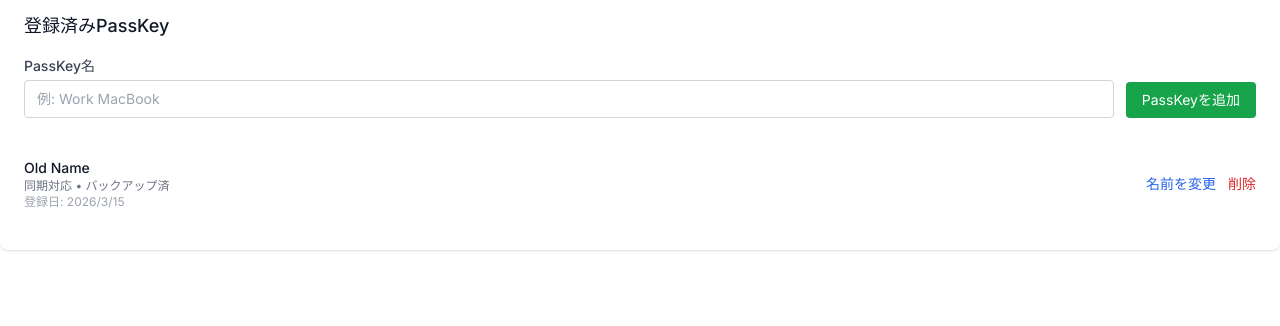
Test: PasskeySettings › shows a UI error when passkey rename fails
Click the button "名前を変更". click: click(1181, 184)
box: [1146, 174, 1216, 194]
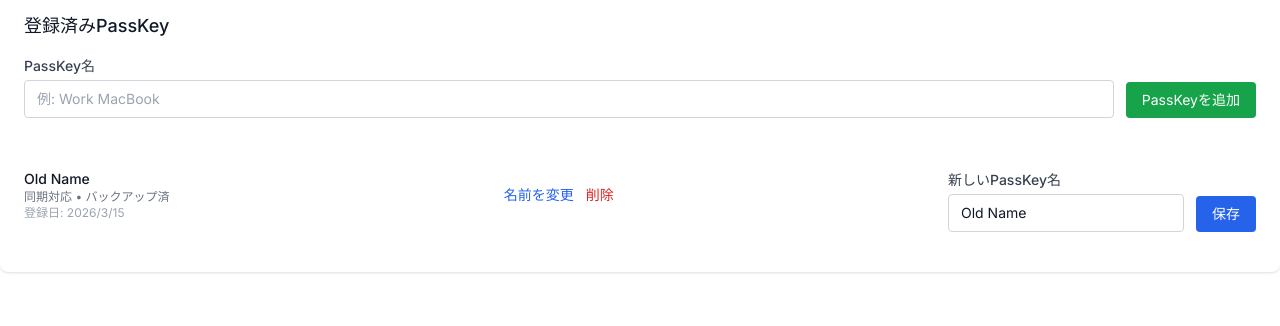
Replace the text in the field labelled "新しいPassKey名" with "New Name". click: (1066, 213)
box: [948, 194, 1184, 232]
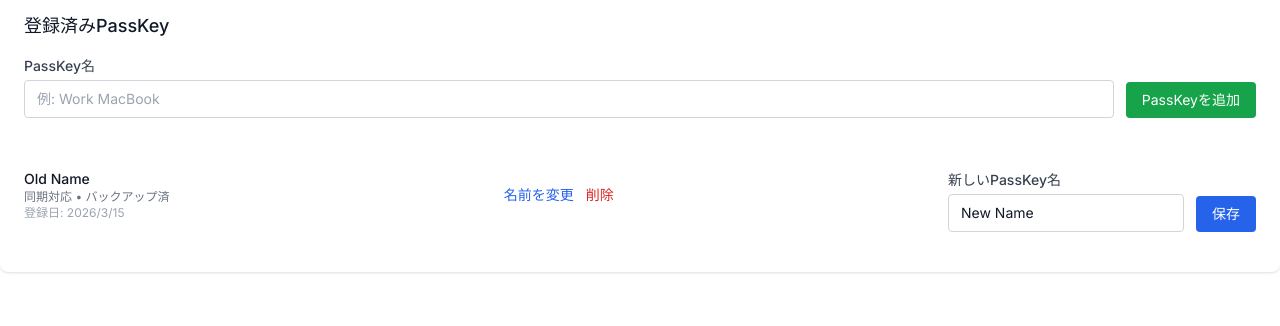
Click the button "保存". click: click(1226, 214)
box: [1196, 196, 1256, 232]
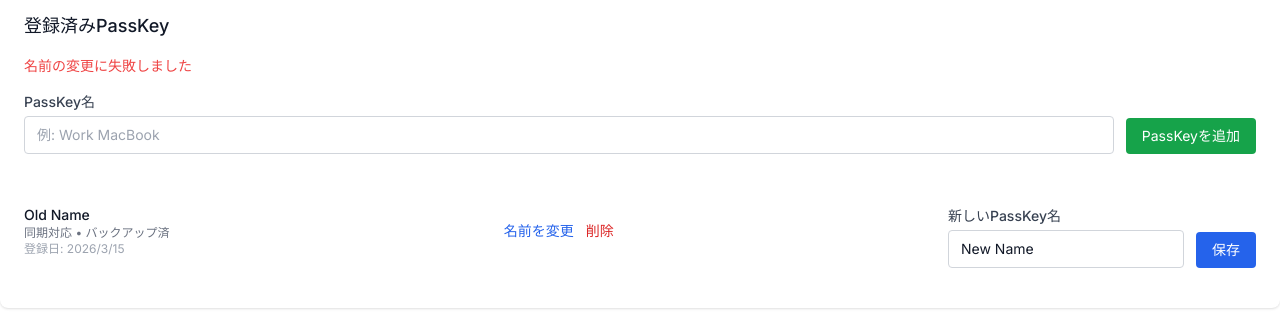
Check: the text "名前の変更に失敗しました" is shown, box [24, 57, 192, 74]
